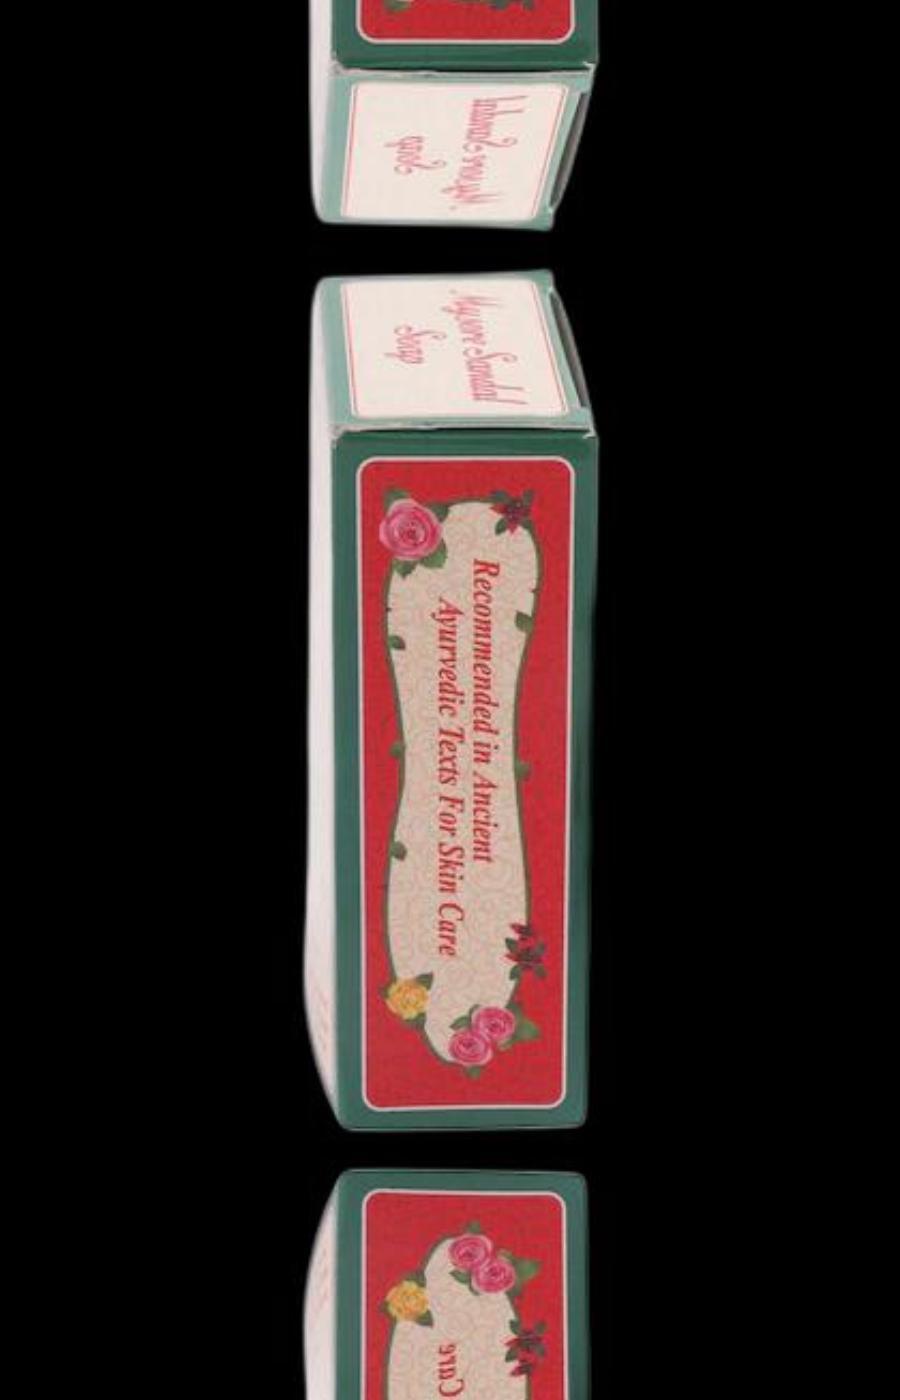Mysore Sandal Soap 125 g: (287, 264, 607, 1132), (287, 0, 607, 236), (287, 1168, 607, 1400)
